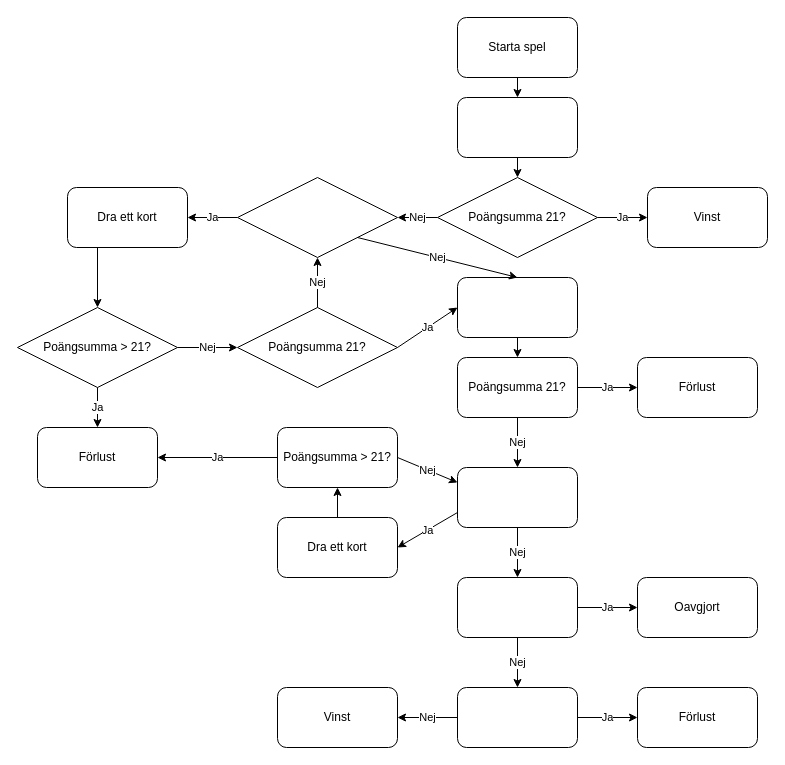
The diagram is 785 pixels wide and 765 high, and some of its shapes have lost their labels. The centre of each missing label's shape, as x and y in pixels:
"Dator närmre 21 än spelare?" goes at point (517, 717).
"Dator visar sina kort" goes at point (517, 307).
"Poängsumma < 17?" goes at point (517, 497).
"Spelare får två kort vardera" goes at point (517, 127).
"Spelare och Dator samma poäng?" goes at point (517, 607).
"Tilldelas ytterligare ett kort?" goes at point (317, 217).
